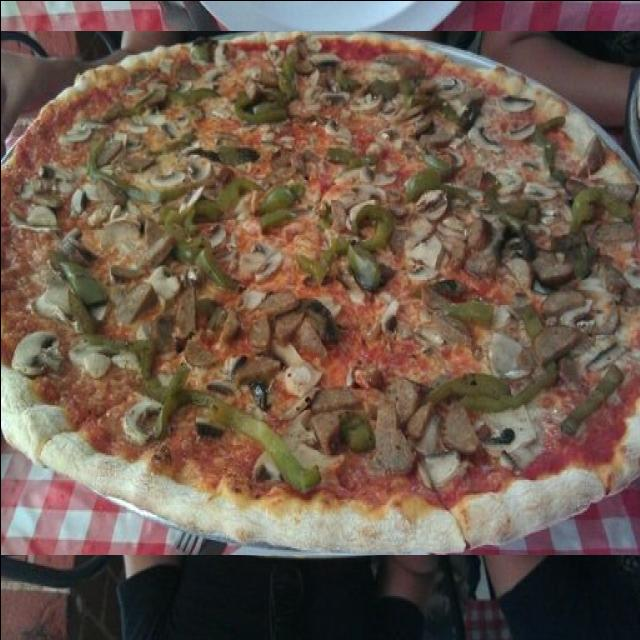pizza: (0, 30, 640, 554)
